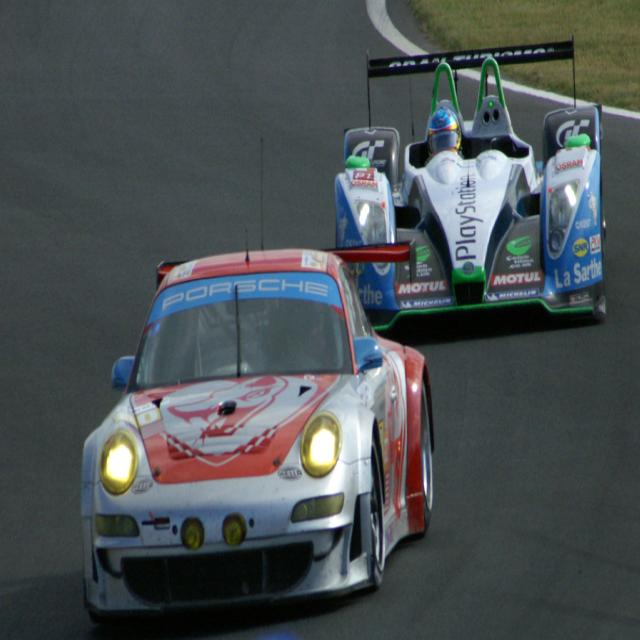car: (76, 254, 434, 618)
